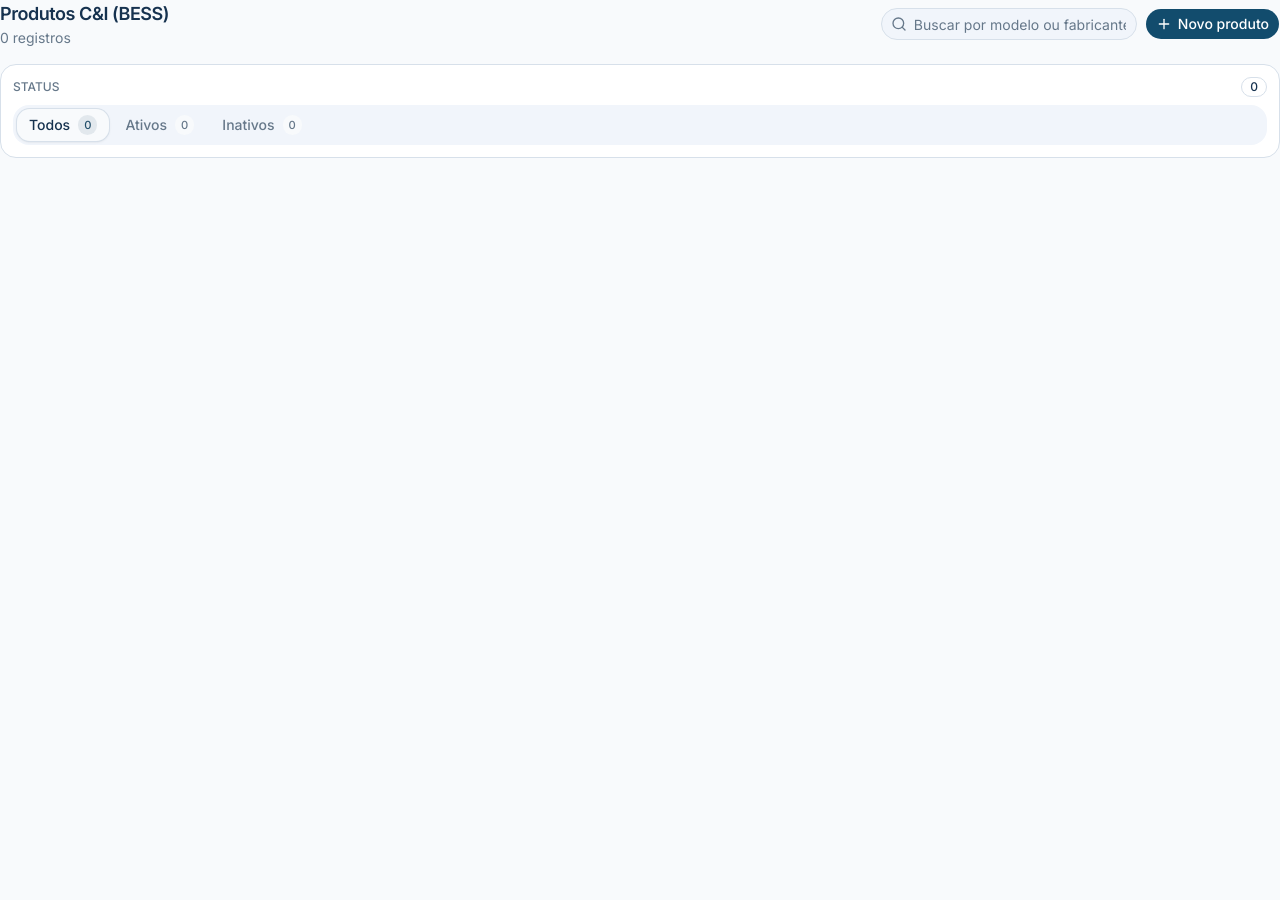
CiBessProductsEditor: form › closes the form via the close button
The image size is (1280, 900).
Click the button "Novo produto" at (1212, 24), box [1145,8,1279,40]
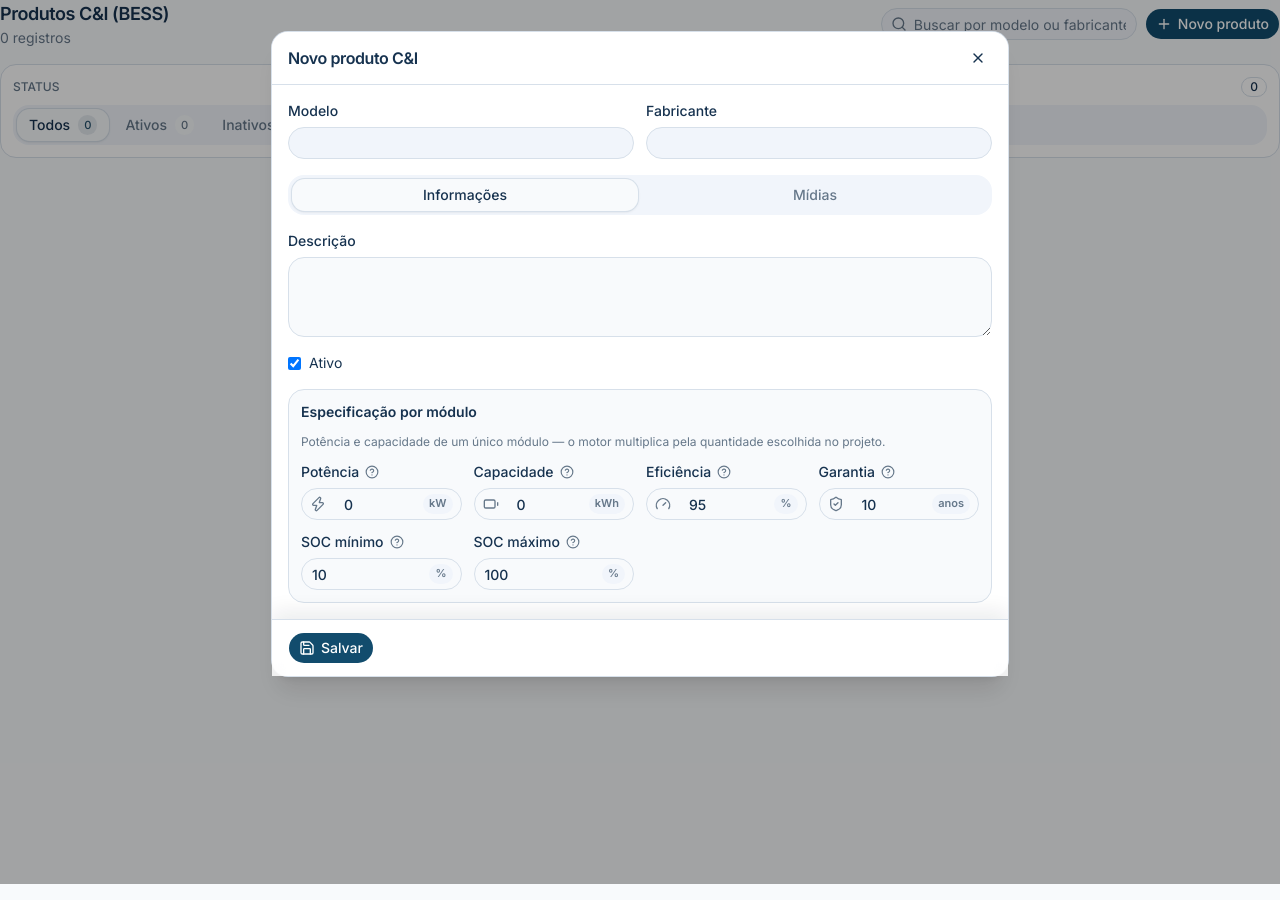
Result: the dialog is shown at [272,32,1008,676]
Click the button named "Fechar Novo produto C&I" at (978, 58), box [964,44,992,72]
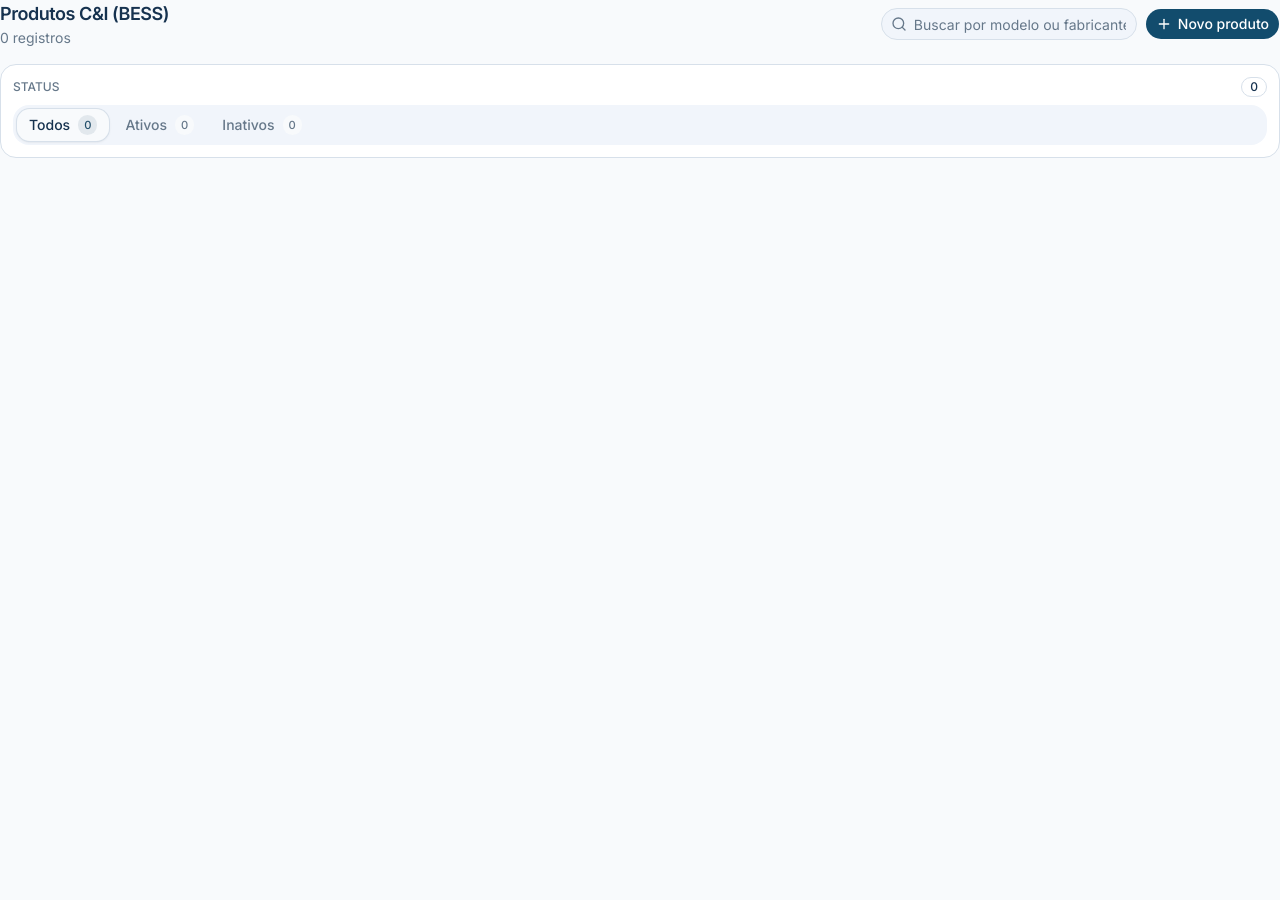
Result: the dialog is gone
